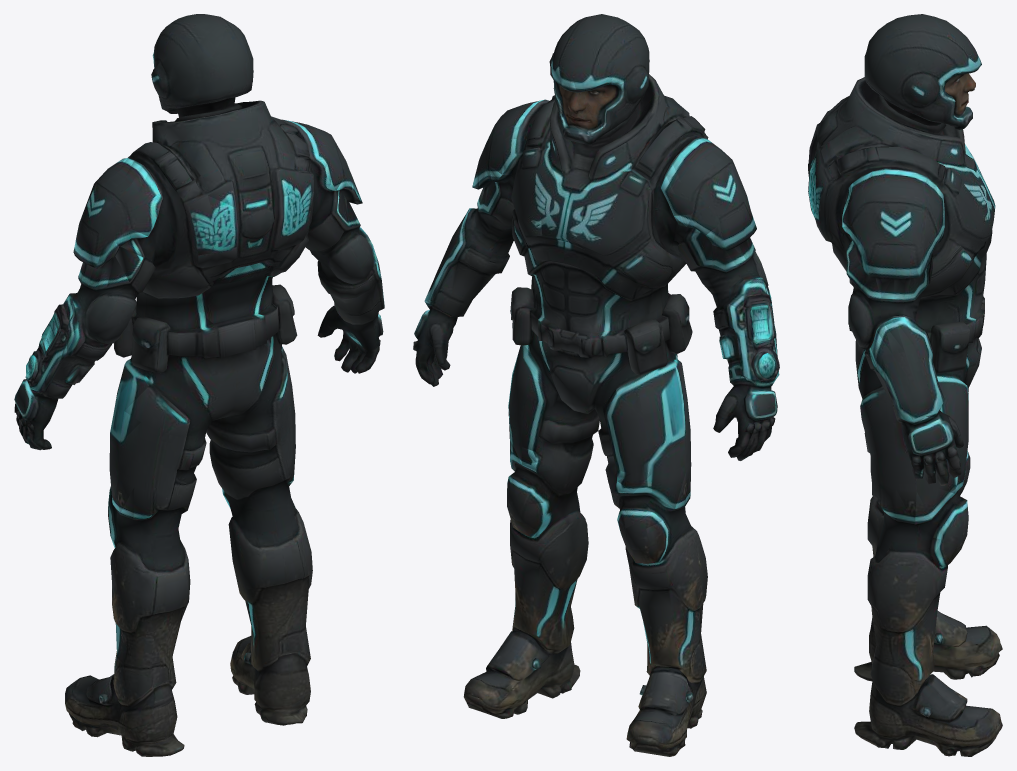
File: relay_van.glb
3 renders of one model, left to right at view 1: azimuth 30°, elevation 25°; view 2: azimuth 150°, elevation 25°; view 3: azimuth 270°, elevation 25°, orthographic. The views are drawn at different scales.
Visible parts, largest first — view 1: Body, Trim; view 2: Body, Trim; view 3: Body, Trim.
Boxes of the visible parts, <box> form: Body: <box>14,14,384,756</box>; Trim: <box>23,53,384,665</box>; Body: <box>413,14,779,756</box>; Trim: <box>415,59,778,664</box>; Body: <box>808,14,1002,756</box>; Trim: <box>808,53,995,665</box>.
Bounding box in the file's own units: 0.9616 × 1.8 × 0.4614.
2 materials, 2 textured.
